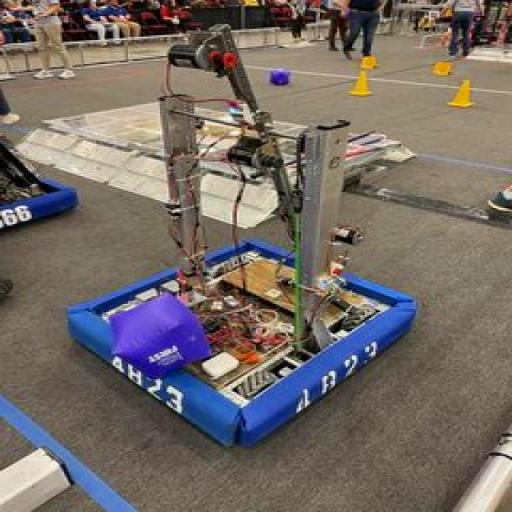robot: (74, 16, 438, 448), (0, 83, 70, 242)
